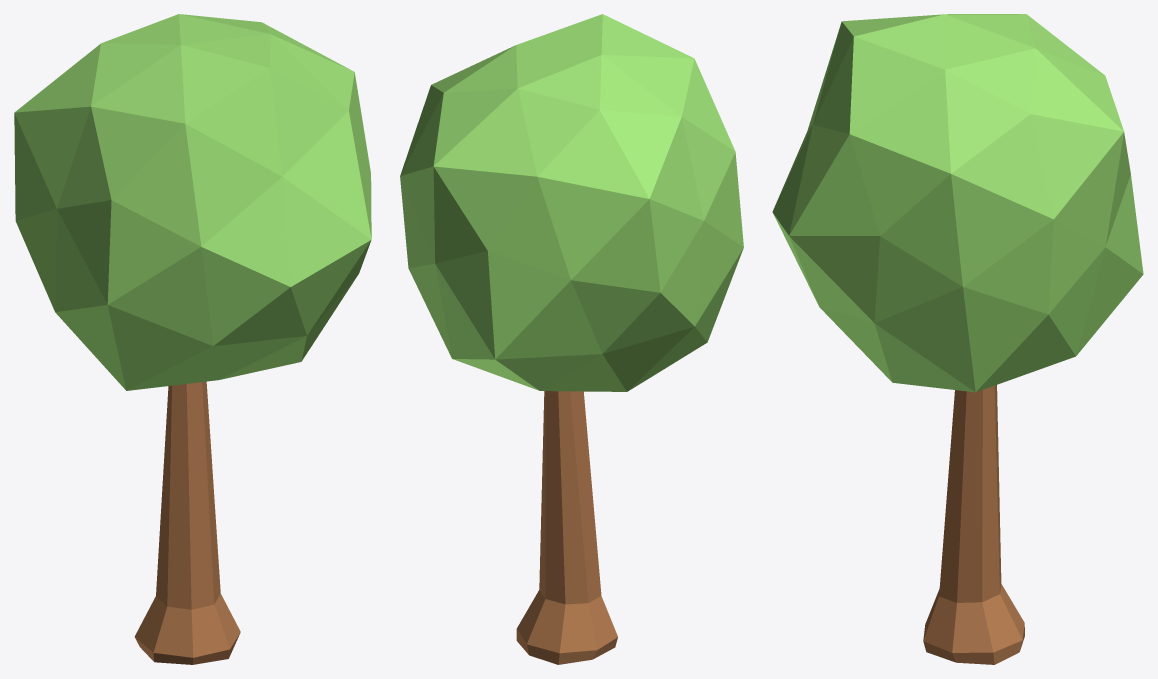
File: Tree8.fbx
3 views of the same model, side by side, from view 1: azimuth 30°, elevation 25°; view 2: azimuth 150°, elevation 25°; view 3: azimuth 270°, elevation 25° (orthographic). The views are drawn at different scales.
Parts seen in each view (by area): view 1: Tree8; view 2: Tree8; view 3: Tree8.
Boxes of the visible parts, x1,y1,x2,y2 form: Tree8: [14, 14, 371, 664]; Tree8: [400, 14, 743, 664]; Tree8: [772, 14, 1143, 664].
Bounding box in the file's own units: 204 × 410 × 223.
